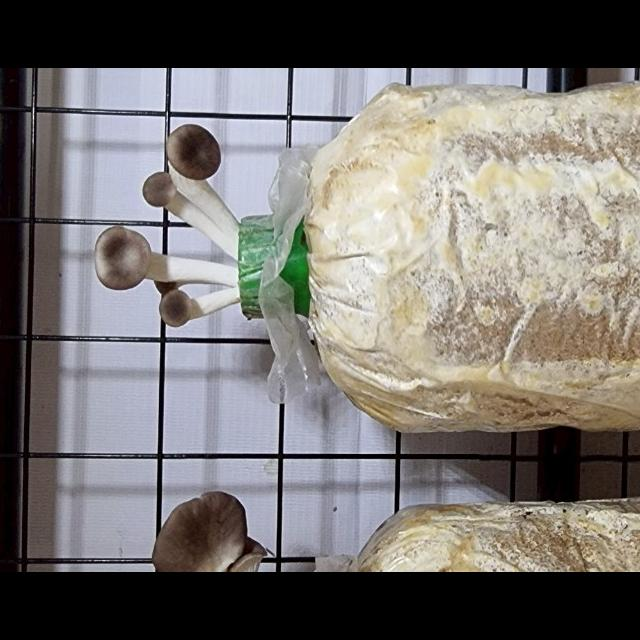normal: (131, 163, 256, 260), (93, 221, 248, 296), (171, 118, 231, 196)
